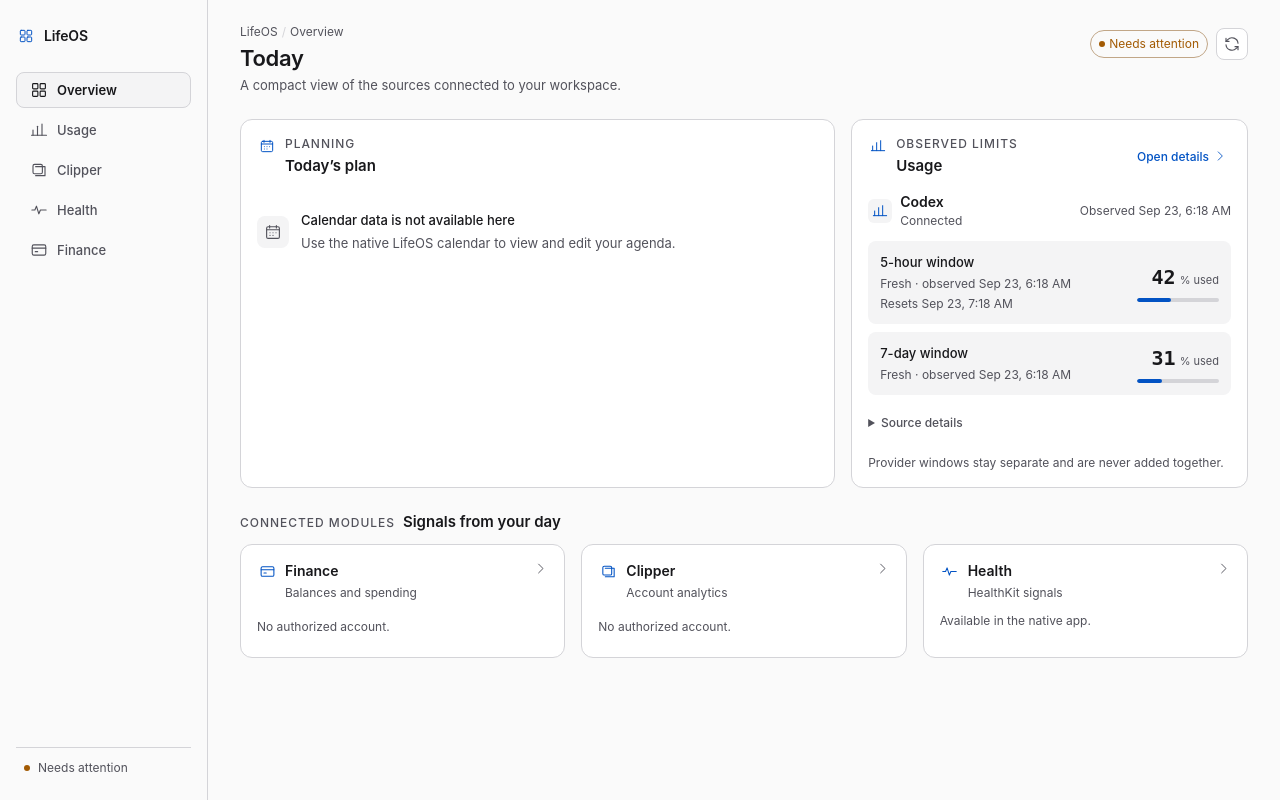
Scenario: dashboard live source states › rejects malformed live data without blanking valid usage
Click the button with class "nav-button" showing "Usage" at (104, 130), box [16,112,191,148]
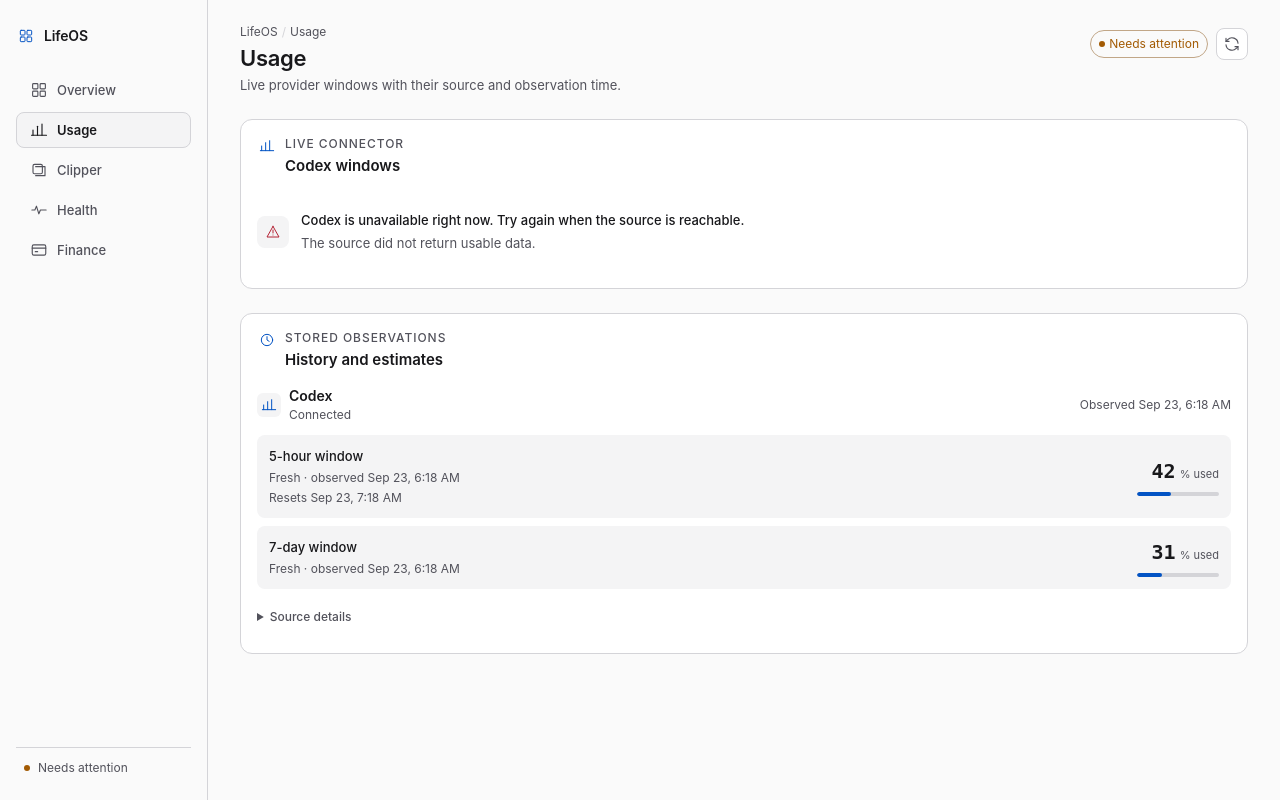
Expected: the text "5-hour window" is shown, [269,448,363,464]
Result: the text "Codex is unavailable" is shown at [301,212,744,228]
